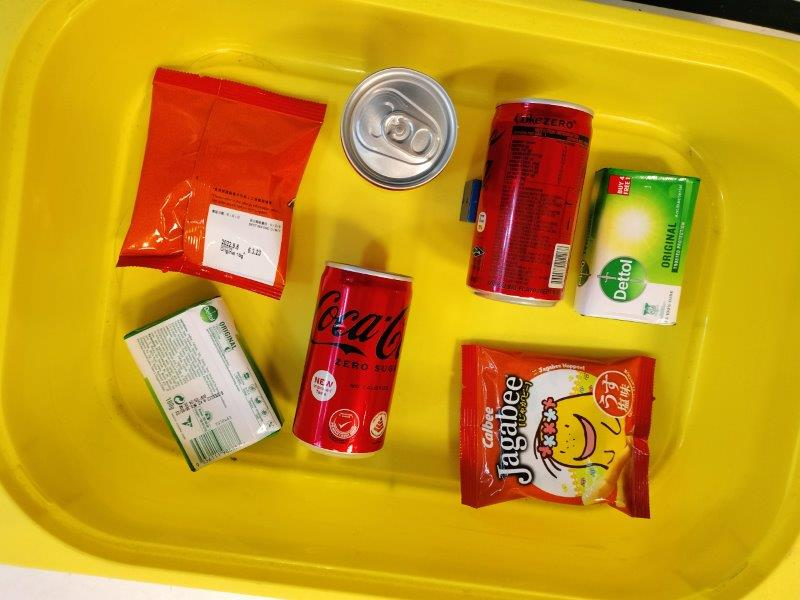Coke: (467, 98, 593, 308), (292, 262, 413, 459), (338, 68, 458, 191)
Dettol: (124, 295, 283, 471), (576, 168, 700, 326)
Jagabee: (117, 67, 327, 302), (460, 342, 656, 520)
